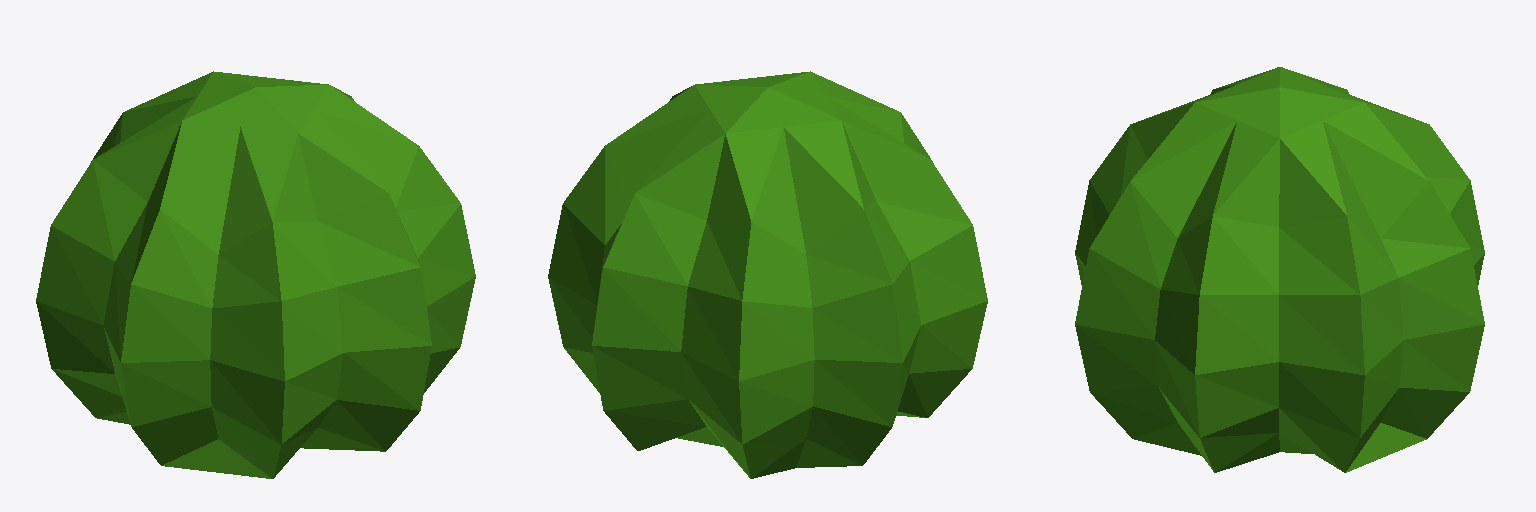
Rendered from Cactus2.obj.
3 views of the same model, side by side, from view 1: azimuth 30°, elevation 25°; view 2: azimuth 150°, elevation 25°; view 3: azimuth 270°, elevation 25° (orthographic).
Parts seen in each view (by area): view 1: Cube.001_0.001; view 2: Cube.001_0.001; view 3: Cube.001_0.001.
Boxes of the visible parts, <box> form: Cube.001_0.001: <box>36,71,475,478</box>; Cube.001_0.001: <box>548,71,987,478</box>; Cube.001_0.001: <box>1075,67,1484,472</box>.
Size of the model in its own units: 1.98 by 1.8 by 1.98.